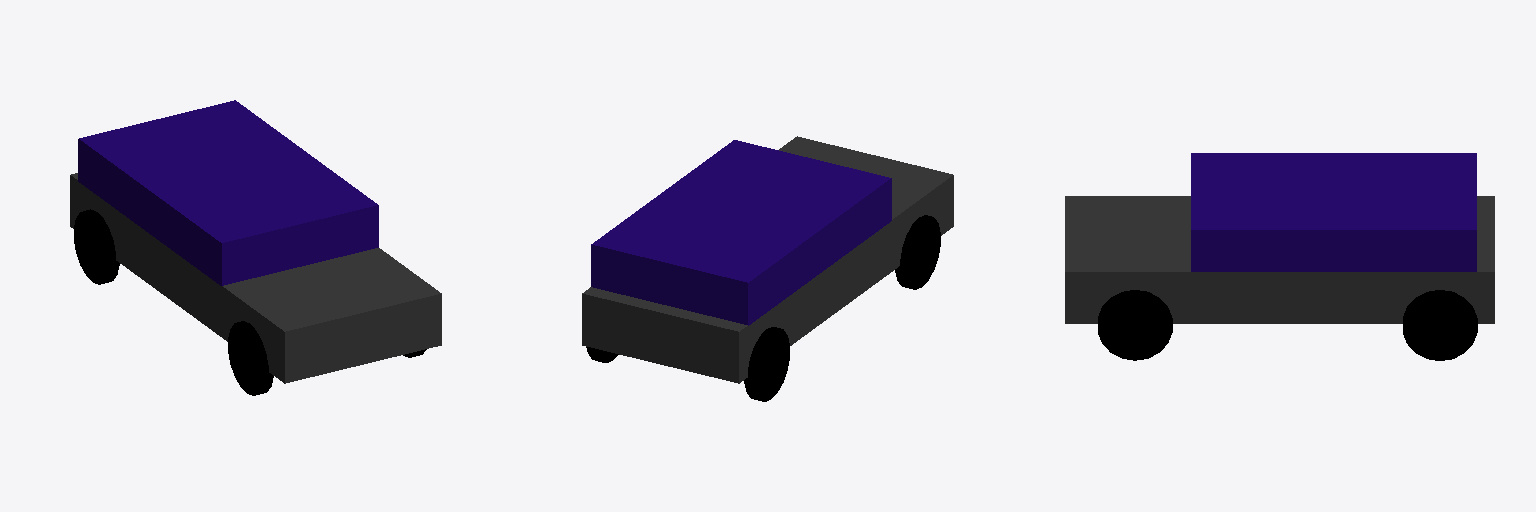
Rendered from simple_car_1.obj.
The picture shows the model from 3 angles: view 1: azimuth 30°, elevation 25°; view 2: azimuth 150°, elevation 25°; view 3: azimuth 270°, elevation 25°; orthographic projection.
Visible parts, largest first — view 1: Box002, Box001, Cylinder003, Cylinder004; view 2: Box002, Box001, Cylinder003, Cylinder004; view 3: Box002, Box001, Cylinder001, Cylinder002.
Boxes of the visible parts, x1=… form: Box002: x1=78, y1=100, x2=378, y2=285; Box001: x1=70, y1=173, x2=441, y2=383; Cylinder003: x1=74, y1=209, x2=119, y2=284; Cylinder004: x1=228, y1=321, x2=273, y2=395; Box002: x1=591, y1=140, x2=891, y2=325; Box001: x1=582, y1=136, x2=953, y2=383; Cylinder003: x1=744, y1=327, x2=789, y2=401; Cylinder004: x1=895, y1=215, x2=940, y2=289; Box002: x1=1191, y1=153, x2=1476, y2=271; Box001: x1=1065, y1=196, x2=1494, y2=323; Cylinder001: x1=1403, y1=290, x2=1477, y2=360; Cylinder002: x1=1098, y1=290, x2=1172, y2=360.
Size of the model in its own units: 20.2 by 14.93 by 45.